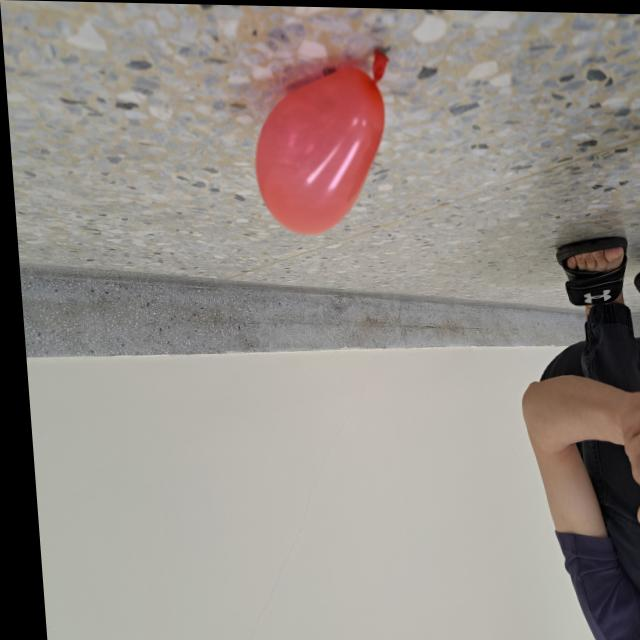red: (244, 45, 400, 235)
